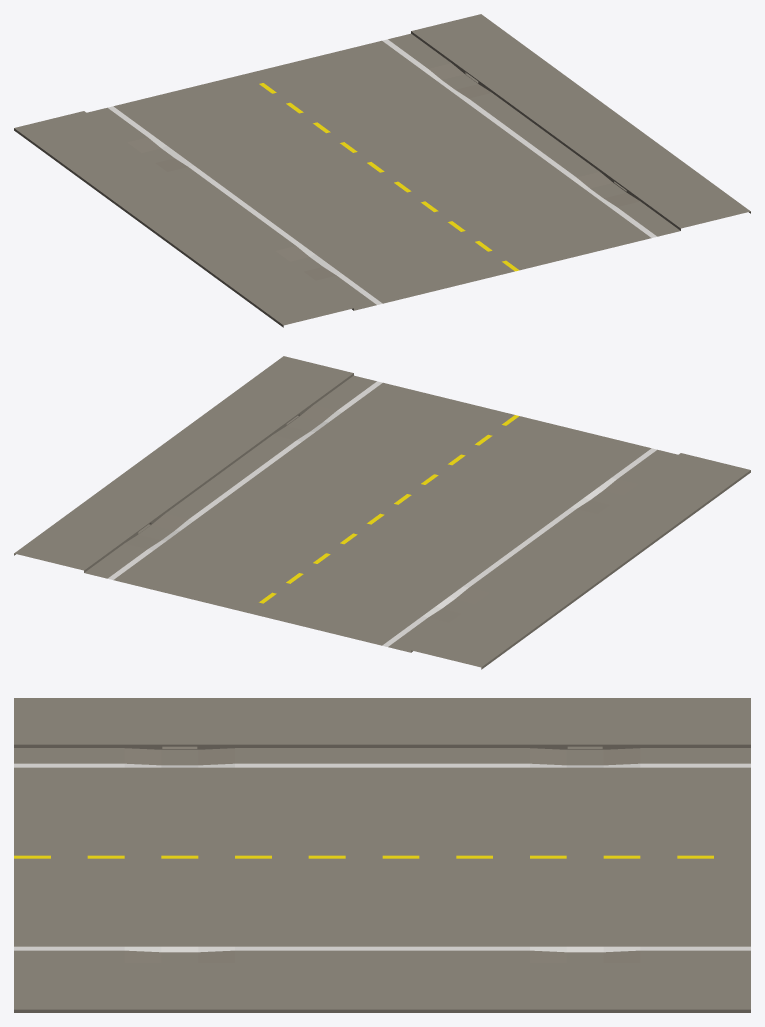
File: straight_Pipes.fbx
The picture shows the model from 3 angles, top to bottom: view 1: azimuth 30°, elevation 25°; view 2: azimuth 150°, elevation 25°; view 3: azimuth 270°, elevation 25°; orthographic projection. The views are drawn at different scales.
Parts seen in each view (by area): view 1: Straight_Pipes; view 2: Straight_Pipes; view 3: Straight_Pipes.
Boxes of the visible parts, x1=… form: Straight_Pipes: x1=14, y1=14, x2=750, y2=327; Straight_Pipes: x1=14, y1=356, x2=750, y2=669; Straight_Pipes: x1=14, y1=698, x2=750, y2=1012.
Size of the model in its own units: 20 by 0.15 by 20.
